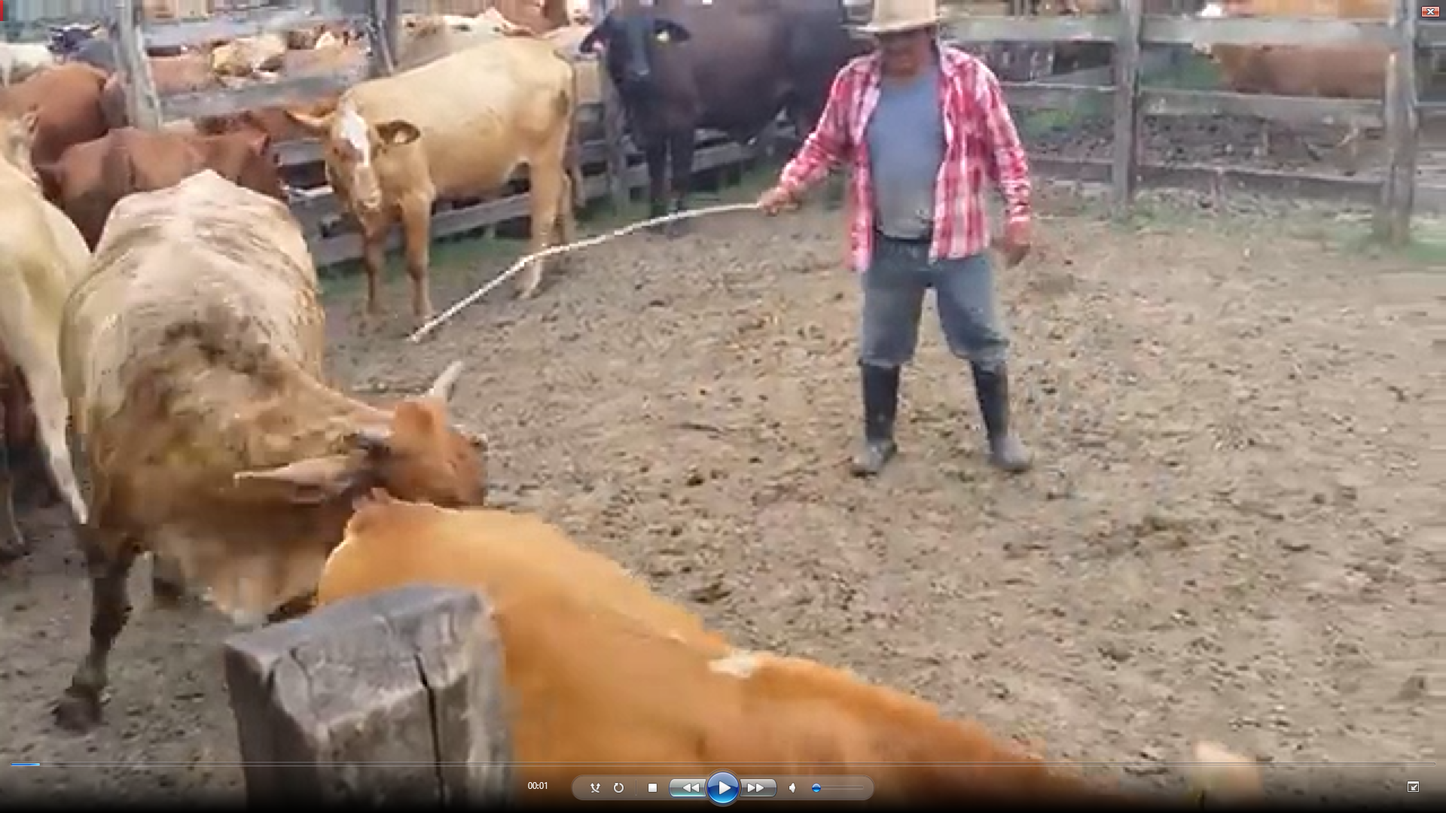bovino: (292, 36, 553, 336), (587, 2, 798, 157)
